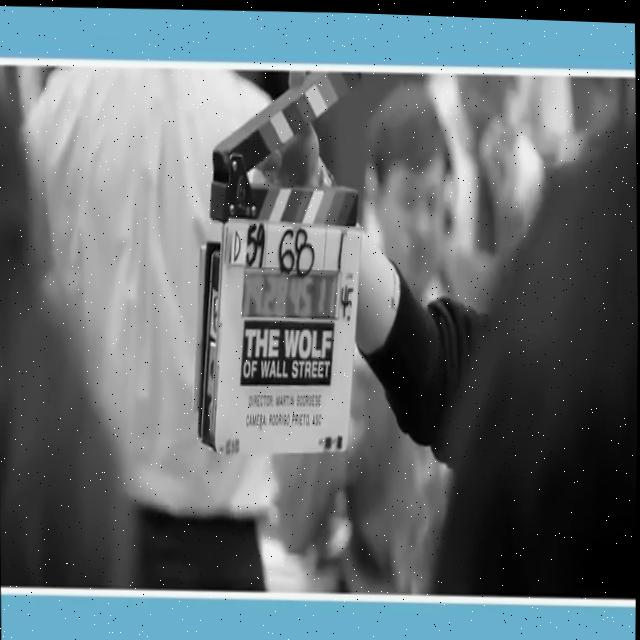Clapperboard: (185, 65, 367, 462)
